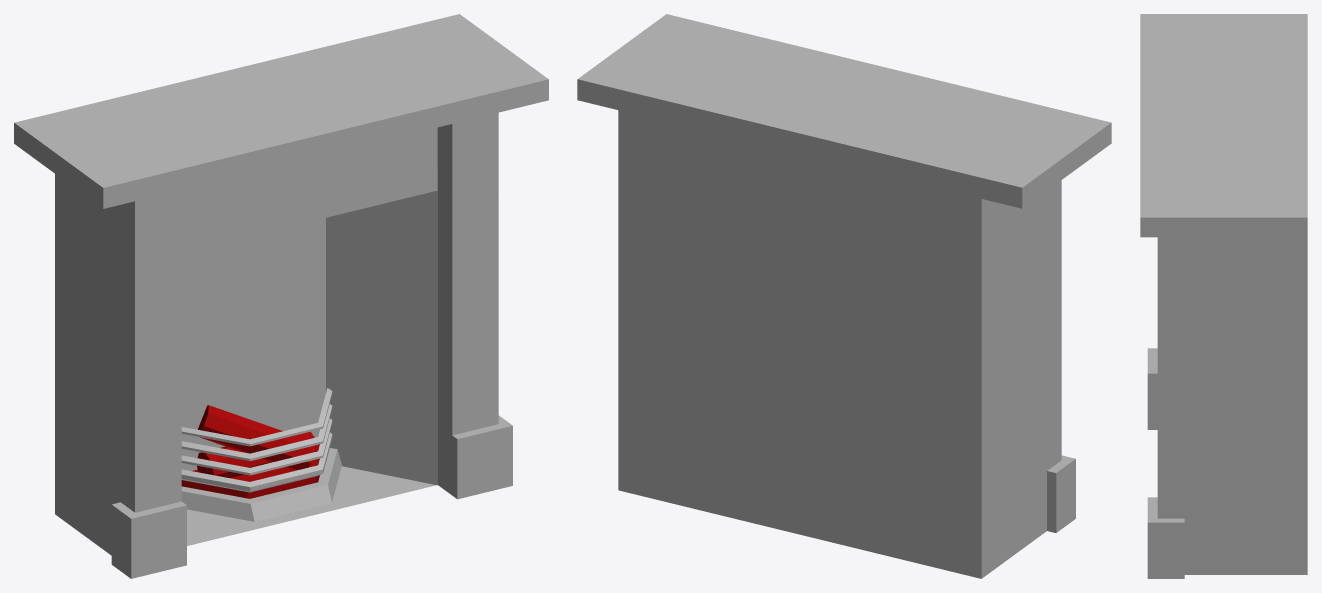
The model's file is fireplace (1).fbx.
3 views of the same model, side by side, from view 1: azimuth 30°, elevation 25°; view 2: azimuth 150°, elevation 25°; view 3: azimuth 270°, elevation 25° (orthographic). The views are drawn at different scales.
Parts seen in each view (by area): view 1: pCube1, pCylinder1, pCylinder4, pCylinder2, pCylinder3; view 2: pCube1; view 3: pCube1.
Part boxes in pixels (x1,y1,x2,y2): pCube1: (14, 14, 548, 578); pCylinder1: (181, 388, 341, 521); pCylinder4: (198, 405, 315, 470); pCylinder2: (181, 444, 319, 498); pCylinder3: (197, 431, 317, 477); pCube1: (577, 14, 1111, 578); pCube1: (1140, 14, 1307, 578).
Size of the model in its own units: 9.8 by 8.44 by 3.4.
